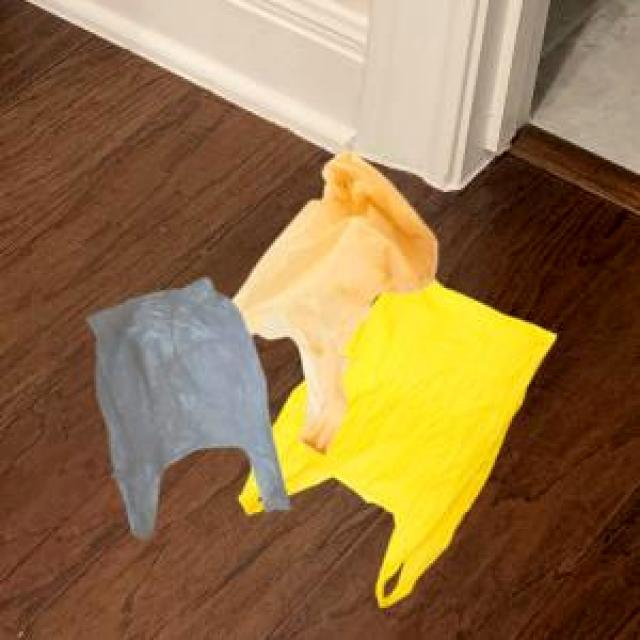Plastic_Bag: (236, 276, 554, 602), (229, 146, 434, 451), (84, 274, 287, 537)
